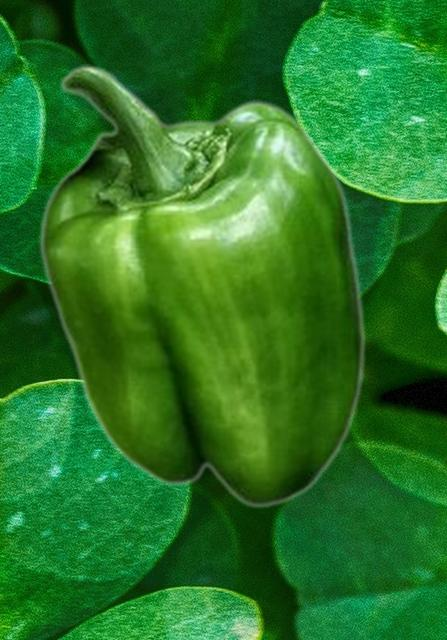bell_pepper: (38, 64, 366, 508)
